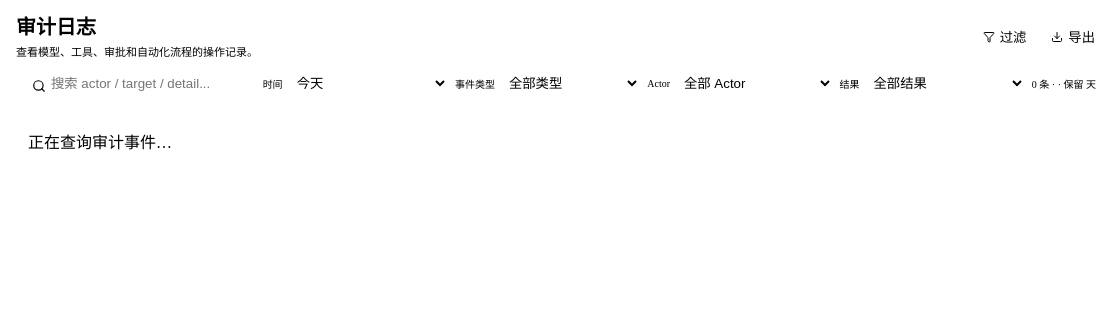
it: AuditPage › does not let a stale query replace the newest filter result
Step 1. Type "old" into the field named "搜索审计事件" → (157,84), box [24,71,290,96]
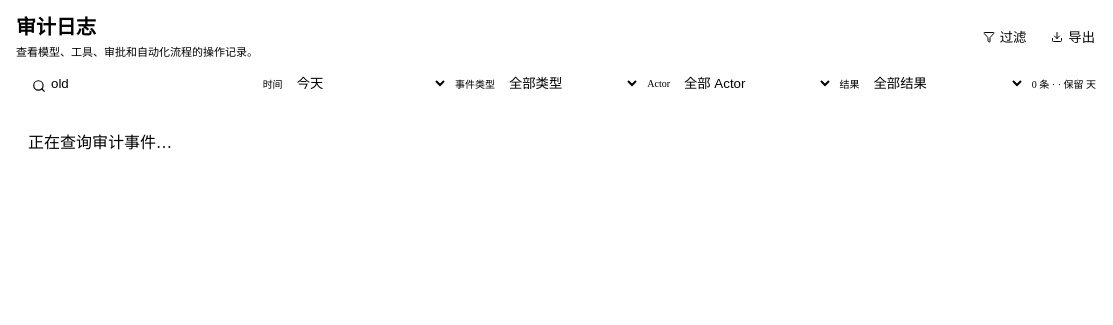
Step 2. Replace the text in the field named "搜索审计事件" with "new" → (157,84), box [24,71,290,96]
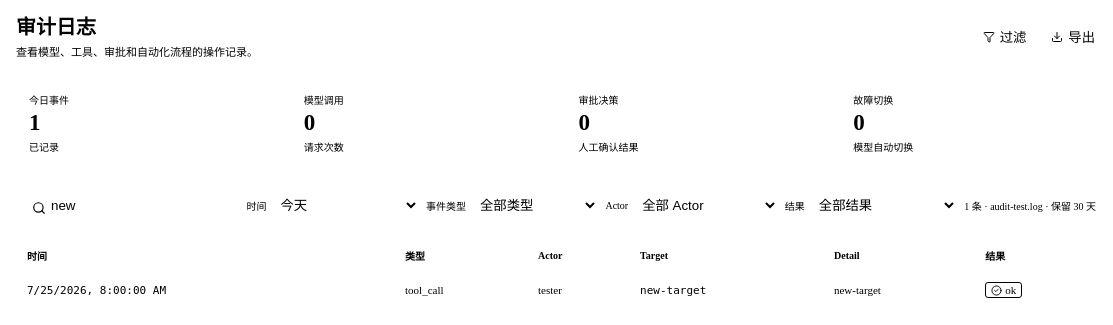
Expected: the text "new-target" is shown, [640,284,706,296]
